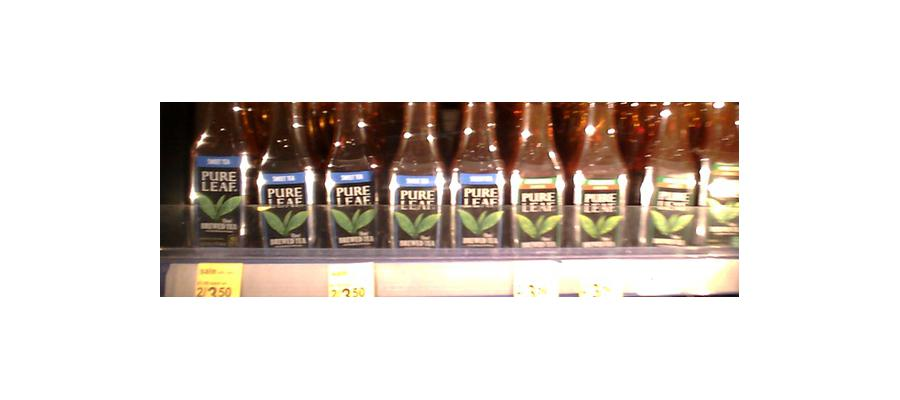bottle: (318, 100, 383, 250), (568, 94, 630, 250), (385, 95, 445, 254), (254, 98, 317, 249), (188, 95, 251, 246), (447, 94, 506, 252), (509, 95, 567, 251), (638, 100, 699, 244)
